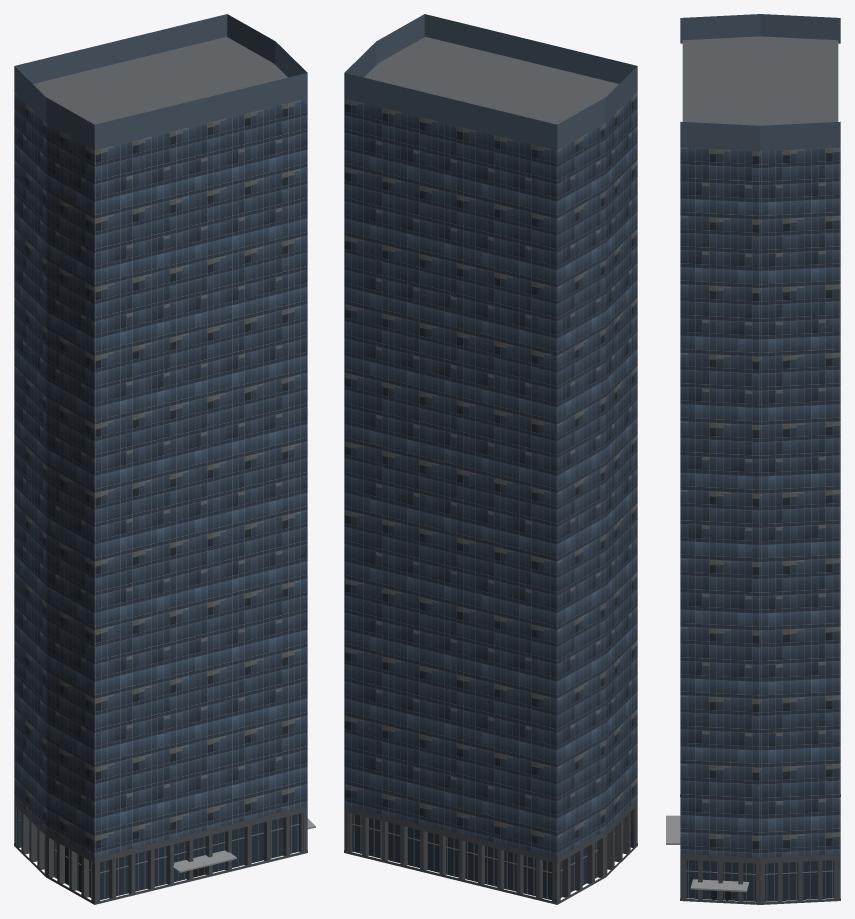
The model's file is russell_investments_center.glb.
3 views of the same model, side by side, from view 1: azimuth 30°, elevation 25°; view 2: azimuth 150°, elevation 25°; view 3: azimuth 270°, elevation 25° (orthographic).
Visible parts, largest first — view 1: russell_investments_center; view 2: russell_investments_center; view 3: russell_investments_center.
Boxes of the visible parts, x1,y1,x2,y2 form: russell_investments_center: (14,14,315,904); russell_investments_center: (344,14,637,904); russell_investments_center: (666,14,840,904).
Size of the model in its own units: 58.73 by 182 by 37.04.
2 materials, 2 textured.
